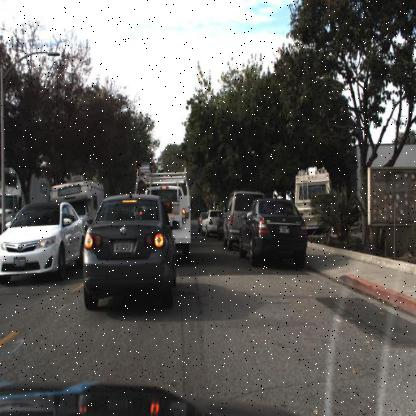car: (82, 192, 176, 312), (0, 201, 86, 283), (236, 197, 308, 269), (165, 162, 196, 270), (222, 189, 266, 253), (48, 170, 96, 220), (200, 208, 223, 239), (215, 199, 227, 245)
truck: (140, 180, 194, 259), (0, 166, 49, 244), (0, 166, 51, 240), (293, 166, 336, 244), (50, 175, 103, 235)
